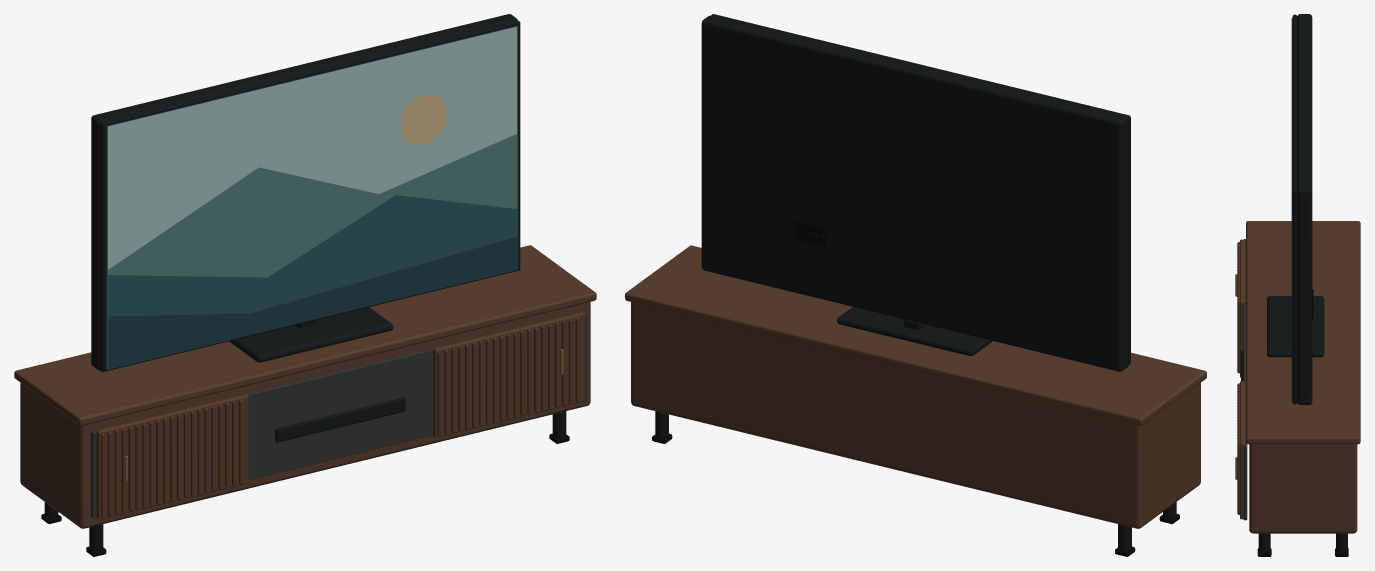
The model's file is tv-cinema-65.glb.
3 views of the same model, side by side, from view 1: azimuth 30°, elevation 25°; view 2: azimuth 150°, elevation 25°; view 3: azimuth 270°, elevation 25° (orthographic). The views are drawn at different scales.
Visible parts, largest first — view 1: Screen sky, Floating console top, Screen ridge 0, Screen ridge 1, Console carcass, Dark recessed front, Screen ridge 2, Sliding door panel, Sliding door panel.001, TV rear housing, Slim display bezel, TV pedestal base (+3 smaller); view 2: TV rear housing, Console carcass, Floating console top, TV pedestal base, Slim display bezel; view 3: Floating console top, Console carcass, TV rear housing, Slim display bezel, TV pedestal base, Screen glass, Dark recessed front, Sliding door panel.001, Sliding door panel, Console leg.002, Console leg.003, Reeded wood flute.020 (+1 smaller).
Part boxes in pixels (x1,y1,x2,y2): Screen sky: [107, 26, 517, 368]; Floating console top: [14, 245, 596, 425]; Screen ridge 0: [108, 133, 517, 277]; Screen ridge 1: [108, 195, 517, 369]; Console carcass: [20, 301, 590, 528]; Dark recessed front: [91, 311, 586, 517]; Screen ridge 2: [108, 236, 517, 369]; Sliding door panel: [96, 394, 248, 519]; Sliding door panel.001: [433, 312, 584, 437]; TV rear housing: [91, 14, 517, 370]; Slim display bezel: [100, 20, 520, 371]; TV pedestal base: [229, 307, 393, 362]; TV rear housing: [701, 15, 1128, 371]; Console carcass: [631, 302, 1200, 528]; Floating console top: [625, 245, 1206, 425]; TV pedestal base: [837, 307, 992, 355]; Slim display bezel: [711, 14, 1130, 364]; Floating console top: [1246, 221, 1360, 444]; Console carcass: [1249, 444, 1357, 533]; TV rear housing: [1297, 14, 1312, 404]; Slim display bezel: [1292, 14, 1297, 404]; TV pedestal base: [1267, 296, 1324, 357]; Screen glass: [1291, 18, 1292, 401]; Dark recessed front: [1243, 239, 1247, 520]; Sliding door panel.001: [1240, 381, 1245, 519]; Sliding door panel: [1240, 239, 1245, 377]; Console leg.002: [1258, 533, 1270, 552]; Console leg.003: [1336, 533, 1347, 552]; Reeded wood flute.020: [1237, 300, 1239, 373].
Bounding box in the file's own units: 1.8 × 1.37 × 0.437.
